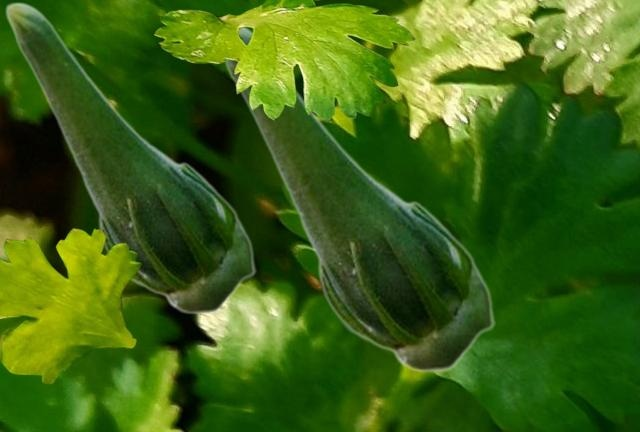okra: (221, 28, 494, 372), (4, 1, 255, 314)
